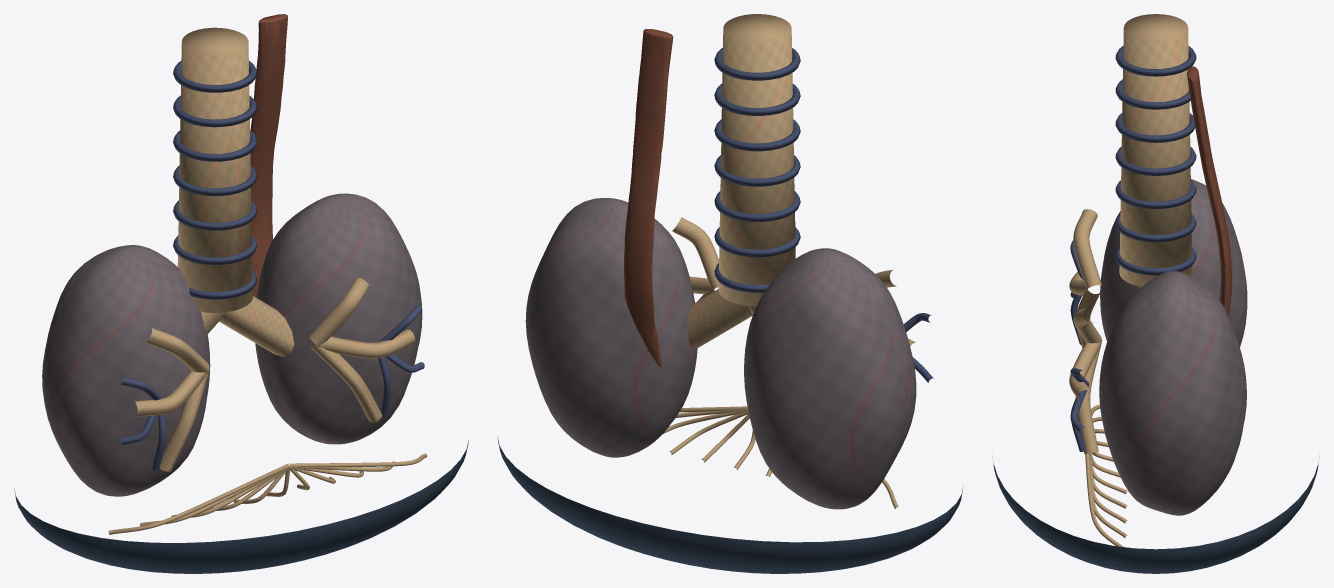
The model's file is airway-diaphragm.02949d65.glb.
3 renders of one model, left to right at view 1: azimuth 30°, elevation 25°; view 2: azimuth 150°, elevation 25°; view 3: azimuth 270°, elevation 25°, orthographic. The views are drawn at different scales.
Parts seen in each view (by area): view 1: procedural-airway-diaphragm-surface-11, procedural-airway-diaphragm-surface-12, procedural-airway-diaphragm-surface-1, procedural-airway-diaphragm-surface-25, Esophagus, procedural-airway-diaphragm-surface-10, procedural-airway-diaphragm-surface-17, procedural-airway-diaphragm-surface-18, procedural-airway-diaphragm-surface-15, procedural-airway-diaphragm-surface-16, procedural-airway-diaphragm-surface-14, procedural-airway-diaphragm-surface-13 (+9 smaller); view 2: procedural-airway-diaphragm-surface-11, procedural-airway-diaphragm-surface-12, procedural-airway-diaphragm-surface-1, procedural-airway-diaphragm-surface-25, Esophagus, procedural-airway-diaphragm-surface-10, procedural-airway-diaphragm-surface-16, procedural-airway-diaphragm-surface-2, procedural-airway-diaphragm-surface-3, procedural-airway-diaphragm-surface-4, procedural-airway-diaphragm-surface-5, procedural-airway-diaphragm-surface-6 (+1 smaller); view 3: procedural-airway-diaphragm-surface-12, procedural-airway-diaphragm-surface-1, procedural-airway-diaphragm-surface-25, procedural-airway-diaphragm-surface-11, Esophagus, procedural-airway-diaphragm-surface-13, procedural-airway-diaphragm-surface-18, procedural-airway-diaphragm-surface-2, procedural-airway-diaphragm-surface-4, procedural-airway-diaphragm-surface-5, procedural-airway-diaphragm-surface-17, procedural-airway-diaphragm-surface-6 (+6 smaller).
Boxes of the visible parts, x1,y1,x2,y2 form: procedural-airway-diaphragm-surface-11: [42, 245, 210, 496]; procedural-airway-diaphragm-surface-12: [255, 193, 422, 444]; procedural-airway-diaphragm-surface-1: [177, 27, 252, 312]; procedural-airway-diaphragm-surface-25: [14, 440, 468, 573]; Esophagus: [250, 14, 287, 297]; procedural-airway-diaphragm-surface-10: [219, 296, 294, 356]; procedural-airway-diaphragm-surface-17: [316, 329, 414, 358]; procedural-airway-diaphragm-surface-18: [310, 345, 381, 422]; procedural-airway-diaphragm-surface-15: [159, 371, 209, 471]; procedural-airway-diaphragm-surface-16: [309, 277, 369, 346]; procedural-airway-diaphragm-surface-14: [134, 370, 208, 416]; procedural-airway-diaphragm-surface-13: [145, 328, 209, 373]; procedural-airway-diaphragm-surface-11: [744, 248, 916, 509]; procedural-airway-diaphragm-surface-12: [525, 198, 697, 457]; procedural-airway-diaphragm-surface-1: [718, 14, 795, 306]; procedural-airway-diaphragm-surface-25: [497, 437, 963, 573]; Esophagus: [624, 29, 673, 367]; procedural-airway-diaphragm-surface-10: [687, 289, 752, 348]; procedural-airway-diaphragm-surface-16: [672, 217, 718, 289]; procedural-airway-diaphragm-surface-2: [714, 48, 800, 80]; procedural-airway-diaphragm-surface-3: [714, 83, 800, 115]; procedural-airway-diaphragm-surface-4: [714, 119, 800, 151]; procedural-airway-diaphragm-surface-5: [714, 155, 800, 186]; procedural-airway-diaphragm-surface-6: [714, 191, 800, 221]; procedural-airway-diaphragm-surface-12: [1099, 271, 1246, 515]; procedural-airway-diaphragm-surface-1: [1119, 14, 1192, 286]; procedural-airway-diaphragm-surface-25: [992, 457, 1319, 573]; procedural-airway-diaphragm-surface-11: [1100, 179, 1247, 347]; Esophagus: [1187, 66, 1231, 315]; procedural-airway-diaphragm-surface-13: [1073, 209, 1101, 289]; procedural-airway-diaphragm-surface-18: [1075, 346, 1100, 454]; procedural-airway-diaphragm-surface-2: [1115, 46, 1196, 76]; procedural-airway-diaphragm-surface-4: [1115, 113, 1195, 142]; procedural-airway-diaphragm-surface-5: [1115, 147, 1196, 175]; procedural-airway-diaphragm-surface-17: [1069, 342, 1101, 399]; procedural-airway-diaphragm-surface-6: [1115, 180, 1196, 208].
Bounding box in the file's own units: 3.2 × 3.65 × 2.24.
5 materials, 5 textured.
